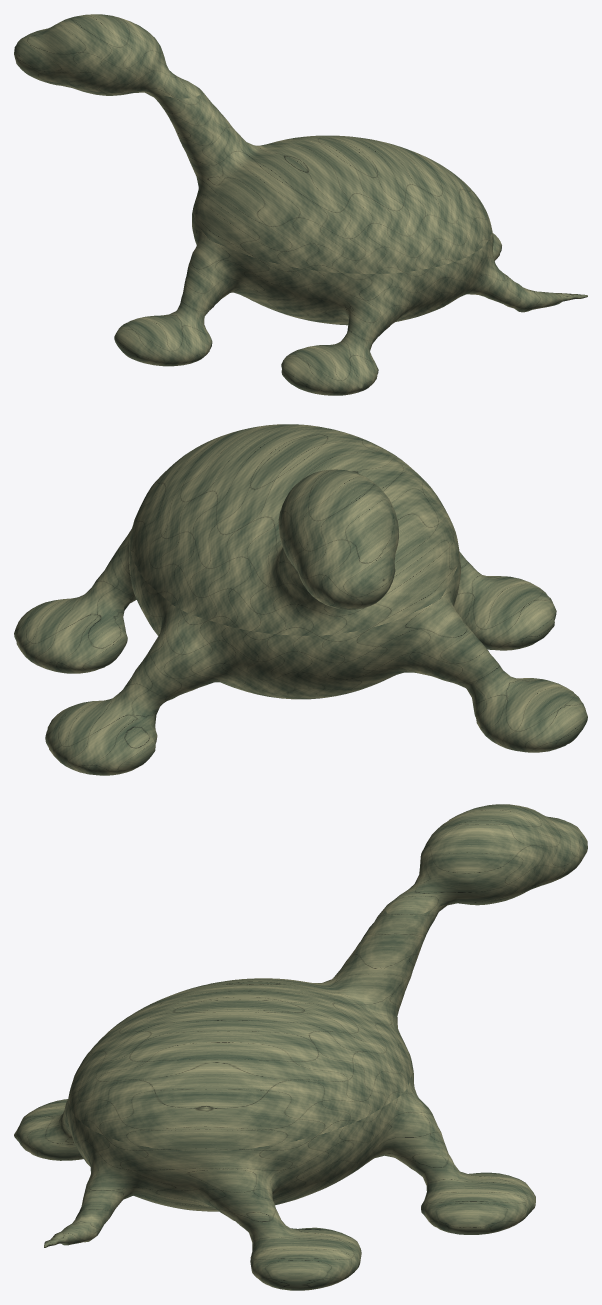
The model's file is Sculpt_DBA_DragonTurtle.fbx.
3 renders of one model, top to bottom at view 1: azimuth 30°, elevation 25°; view 2: azimuth 150°, elevation 25°; view 3: azimuth 270°, elevation 25°, orthographic. The views are drawn at different scales.
Visible parts, largest first — view 1: Sculpt_DBA_DragonTurtle; view 2: Sculpt_DBA_DragonTurtle; view 3: Sculpt_DBA_DragonTurtle.
Boxes of the visible parts, box(x1,y1,x2,y2) form: Sculpt_DBA_DragonTurtle: box(14, 14, 587, 395); Sculpt_DBA_DragonTurtle: box(14, 424, 587, 775); Sculpt_DBA_DragonTurtle: box(14, 804, 587, 1290).
Bounding box in the file's own units: 810 × 857 × 506.
Materials: 1 (1 with a texture image).
